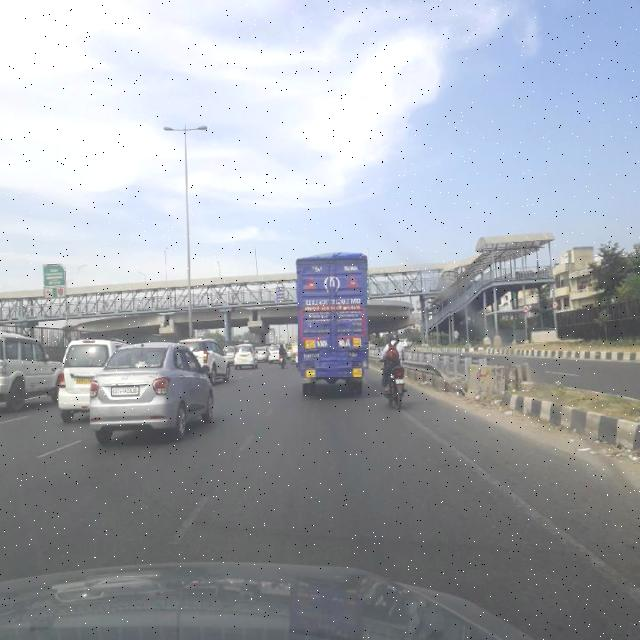D44: (461, 448, 631, 587), (168, 467, 226, 558)
